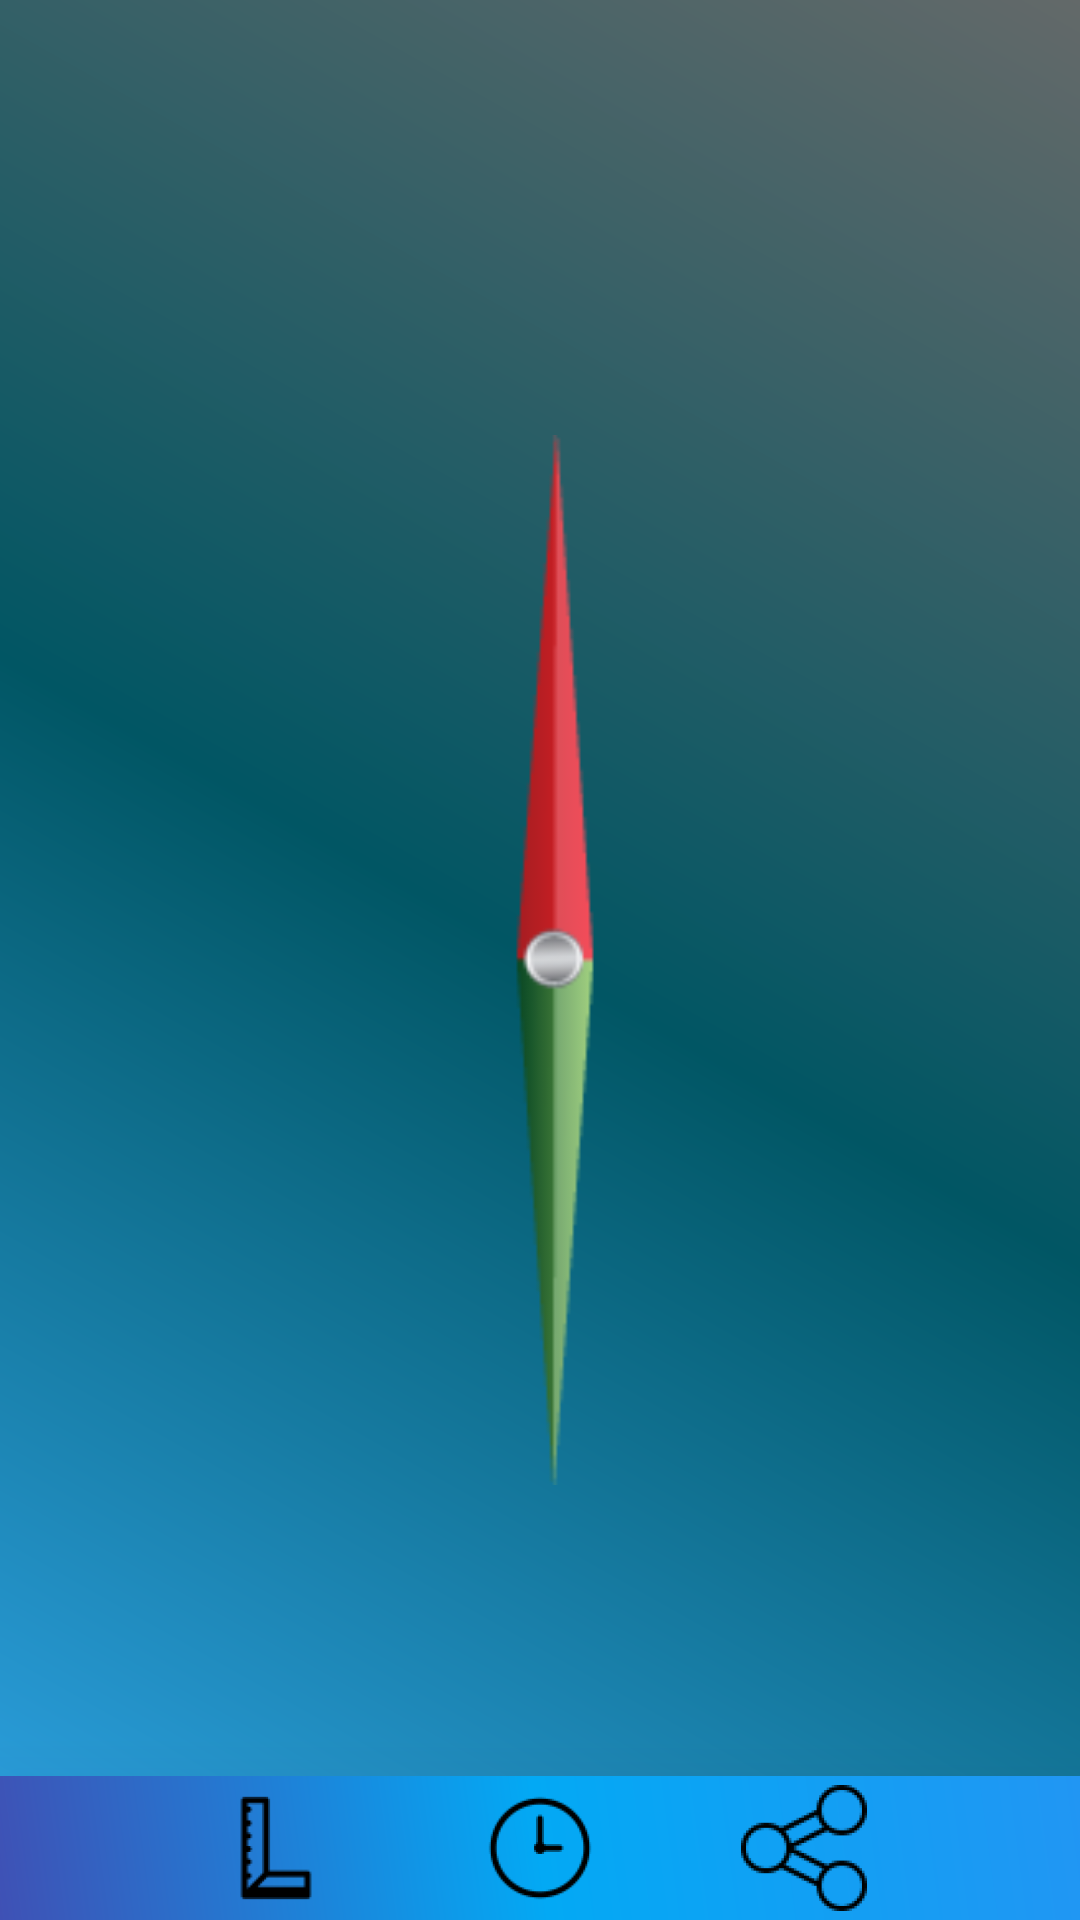

Icons on this 1080 × 1920 Android screen, each with the point to tap as (x,y):
clock: (540,1848)
share: (804,1848)
